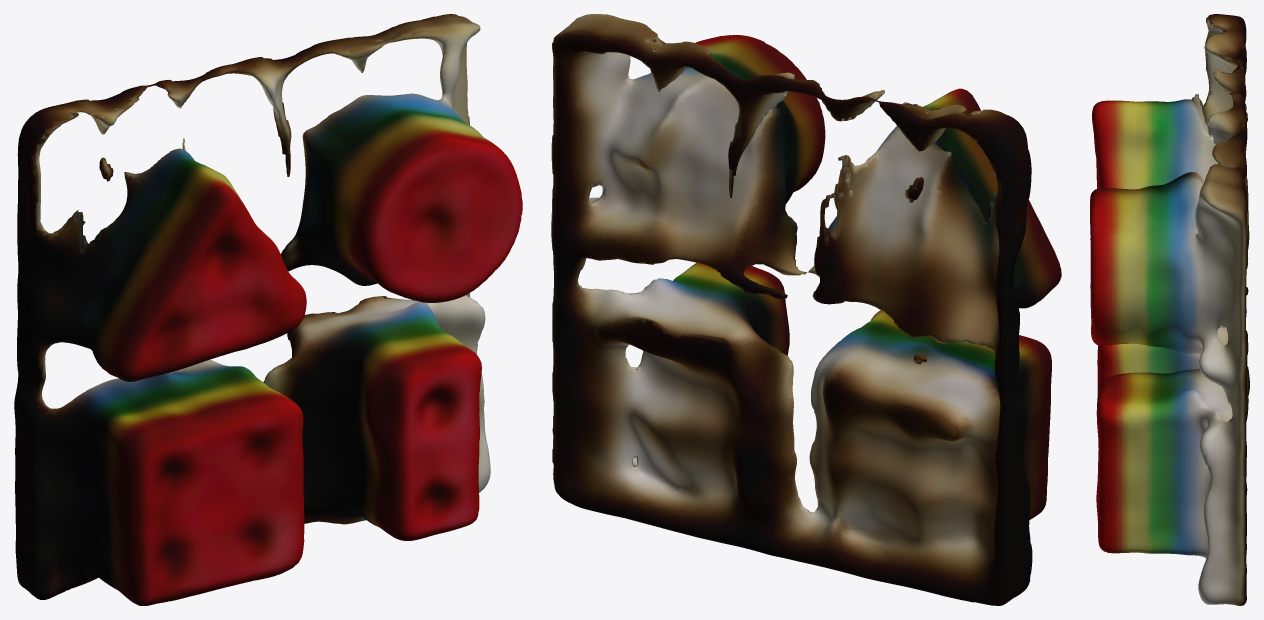
File: sorting_board.glb
3 views of the same model, side by side, from view 1: azimuth 30°, elevation 25°; view 2: azimuth 150°, elevation 25°; view 3: azimuth 270°, elevation 25° (orthographic). The views are drawn at different scales.
Bounding box in the file's own units: 0.9964 × 0.9994 × 0.3463.
